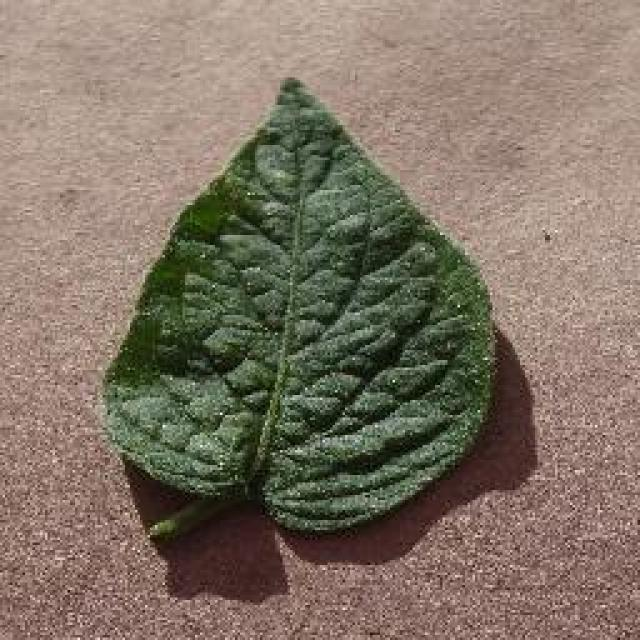Tomato___Spider_mites Two-spotted_spider_mite: (105, 80, 492, 530)
